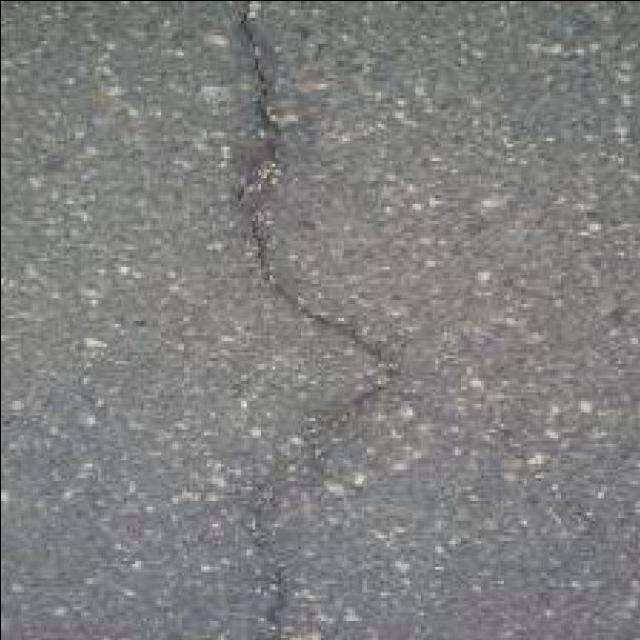SurfaceCrack: (164, 0, 410, 640)
